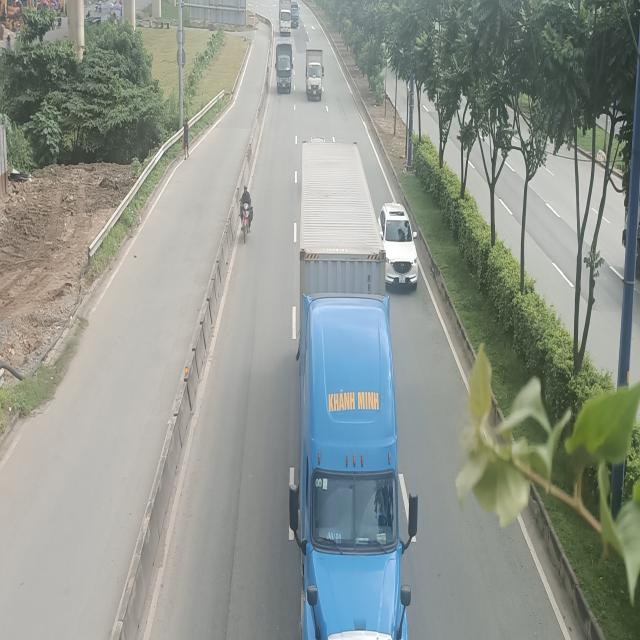car: (377, 200, 418, 288)
container: (289, 139, 419, 640)
truck: (305, 41, 324, 99), (275, 38, 293, 94), (279, 0, 292, 36)
